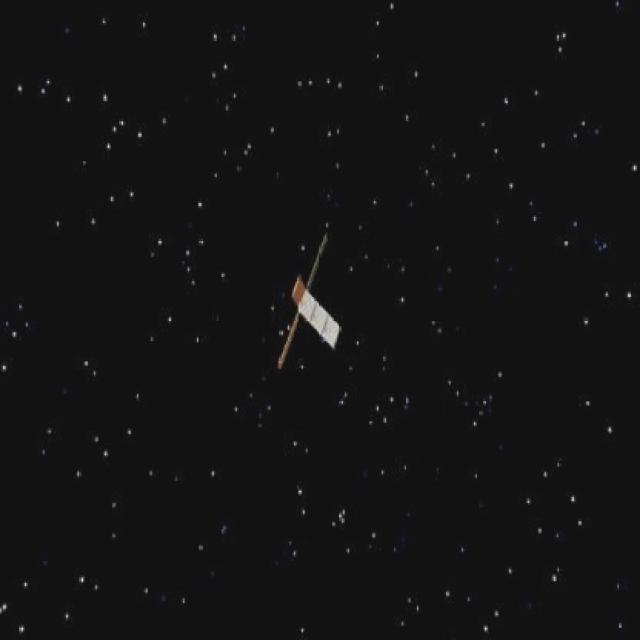satellite: (270, 219, 348, 377)
